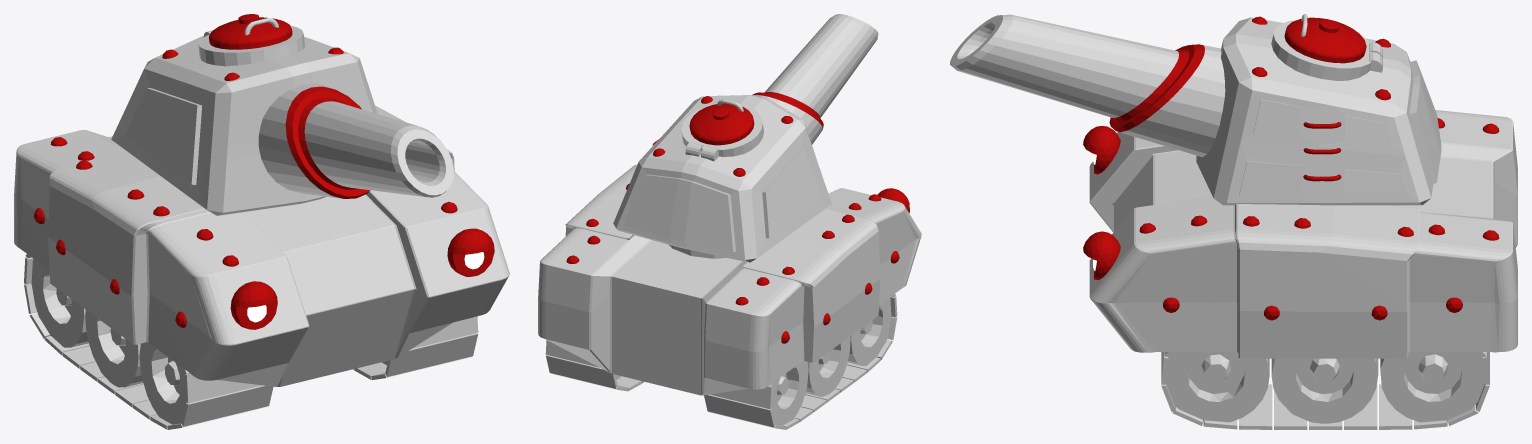
The model's file is tankAlpha.gltf.
3 renders of one model, left to right at view 1: azimuth 30°, elevation 25°; view 2: azimuth 150°, elevation 25°; view 3: azimuth 270°, elevation 25°, orthographic. The views are drawn at different scales.
Parts seen in each view (by area): view 1: Tank_White, Turret.014, Canon.014, Tracks.018, Wheels.024, Entrance.014, Lights.008, Bolts.007; view 2: Tank_White, Turret.014, Canon.014, Tracks.018, Wheels.024, Entrance.014, Bolts.007; view 3: Tank_White, Turret.014, Canon.014, Wheels.024, Entrance.014, Tracks.018, Lights.008, Bolts.007, Ladder.012.
Part boxes in pixels (box(x1,y1,x2,y2)): Tank_White: box(14, 105, 509, 386); Turret.014: box(111, 35, 377, 215); Canon.014: box(258, 83, 453, 198); Tracks.018: box(24, 254, 478, 429); Wheels.024: box(31, 258, 387, 424); Entrance.014: box(198, 14, 304, 66); Lights.008: box(230, 228, 494, 329); Bolts.007: box(33, 137, 457, 327); Tank_White: box(538, 164, 921, 395); Turret.014: box(613, 95, 831, 262); Canon.014: box(752, 14, 878, 144); Tracks.018: box(545, 294, 897, 429); Wheels.024: box(615, 297, 891, 425); Entrance.014: box(681, 99, 763, 161); Bolts.007: box(566, 183, 899, 343); Tank_White: box(1089, 110, 1517, 358); Turret.014: box(1196, 17, 1441, 205); Canon.014: box(950, 14, 1225, 157); Wheels.024: box(1166, 352, 1484, 423); Entrance.014: box(1271, 14, 1382, 80); Tracks.018: box(1161, 352, 1489, 429); Lights.008: box(1083, 126, 1120, 279); Bolts.007: box(1139, 118, 1499, 320); Ladder.012: box(1303, 122, 1341, 181).
Bounding box in the file's own units: 1.55 × 1.51 × 2.28.
